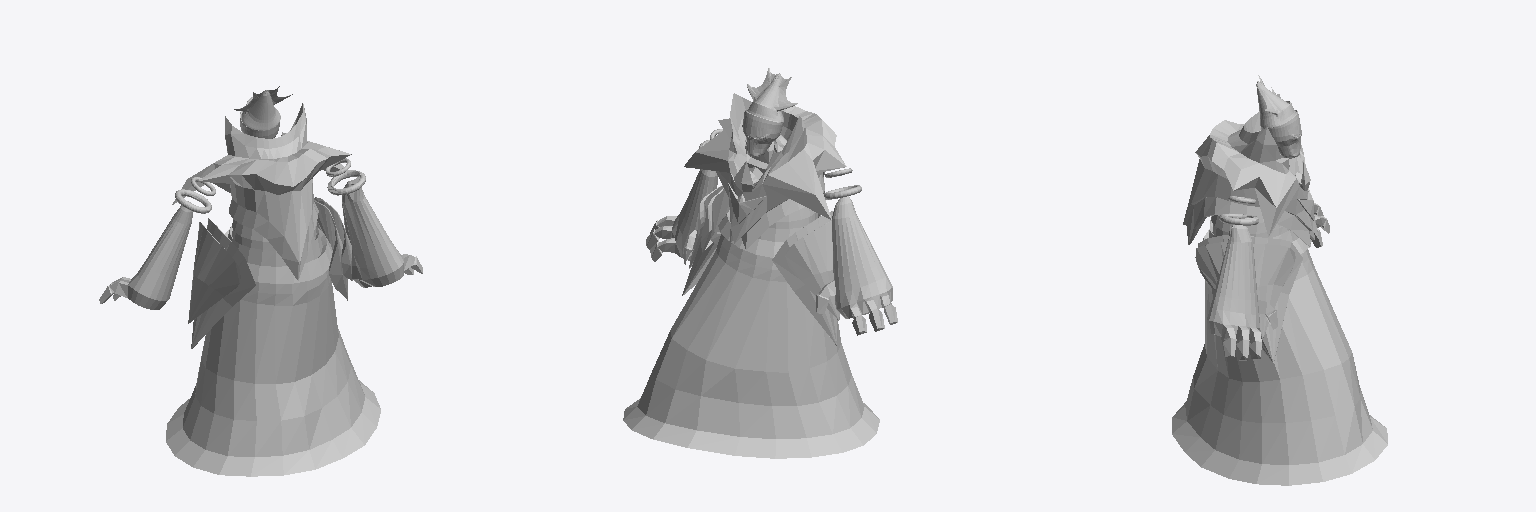
The model's file is RATH_IDLE_24FPS.0060.obj.
3 views of the same model, side by side, from view 1: azimuth 30°, elevation 25°; view 2: azimuth 150°, elevation 25°; view 3: azimuth 270°, elevation 25° (orthographic).
Parts seen in each view (by area): view 1: pasted__pasted__pTorus3; view 2: pasted__pasted__pTorus3; view 3: pasted__pasted__pTorus3.
Part boxes in pixels (x1,y1,x2,y2): pasted__pasted__pTorus3: (99,86,422,476); pasted__pasted__pTorus3: (623,68,897,458); pasted__pasted__pTorus3: (1172,75,1387,485).
Bounding box in the file's own units: 147 × 175 × 96.7.